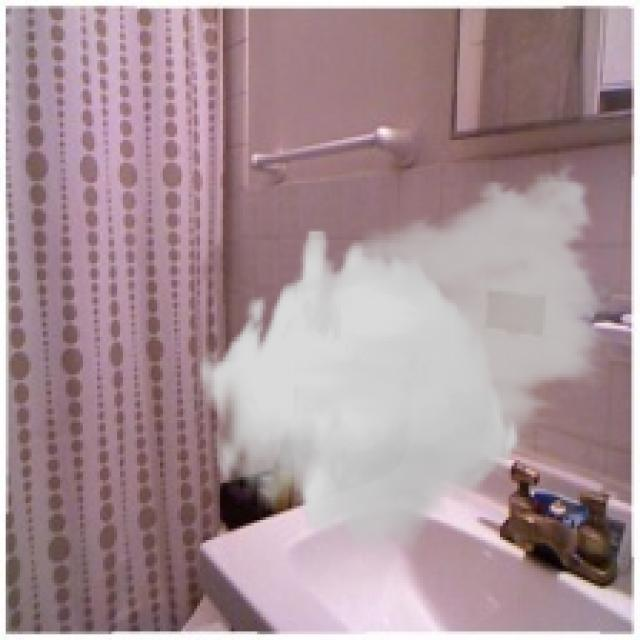Smoke: (197, 155, 617, 554)
